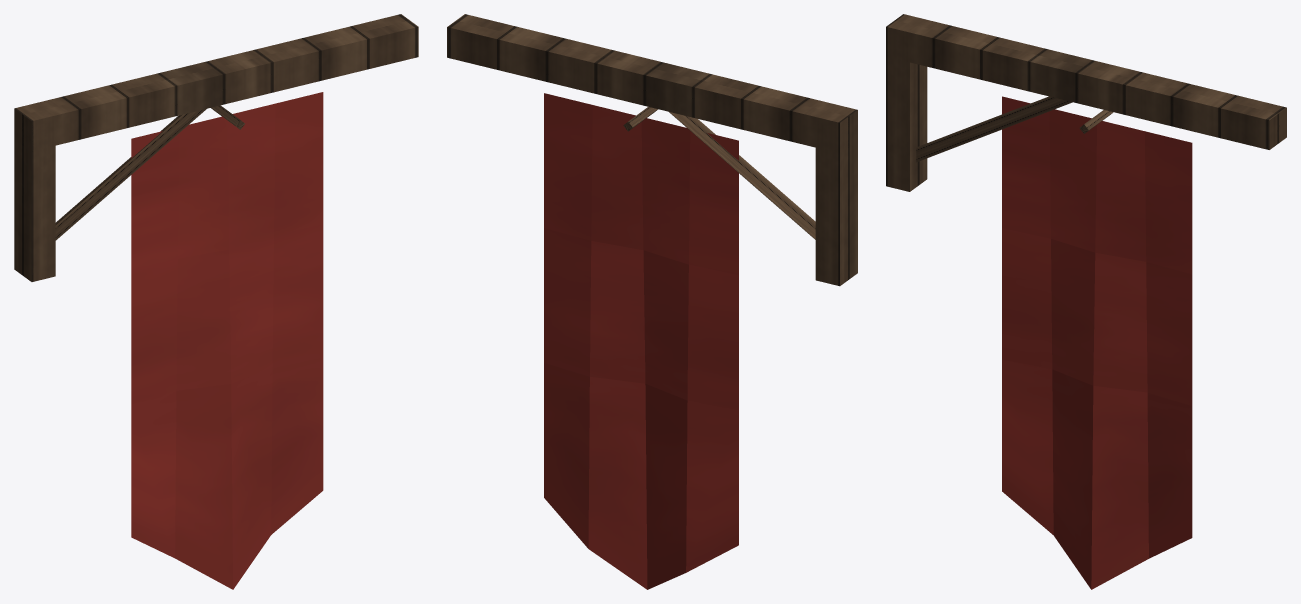
The model's file is Banner_2_LOD1.gltf.
The picture shows the model from 3 angles, left to right: view 1: azimuth 30°, elevation 25°; view 2: azimuth 150°, elevation 25°; view 3: azimuth 330°, elevation 25°; orthographic projection. The views are drawn at different scales.
Visible parts, largest first — view 1: Banner_2_LOD1; view 2: Banner_2_LOD1; view 3: Banner_2_LOD1.
Part boxes in pixels (x1=…): Banner_2_LOD1: x1=14, y1=14, x2=418, y2=589; Banner_2_LOD1: x1=447, y1=14, x2=857, y2=589; Banner_2_LOD1: x1=886, y1=14, x2=1286, y2=589.
Size of the model in its own units: 1.61 by 2.07 by 0.19.
2 materials, 2 textured.
